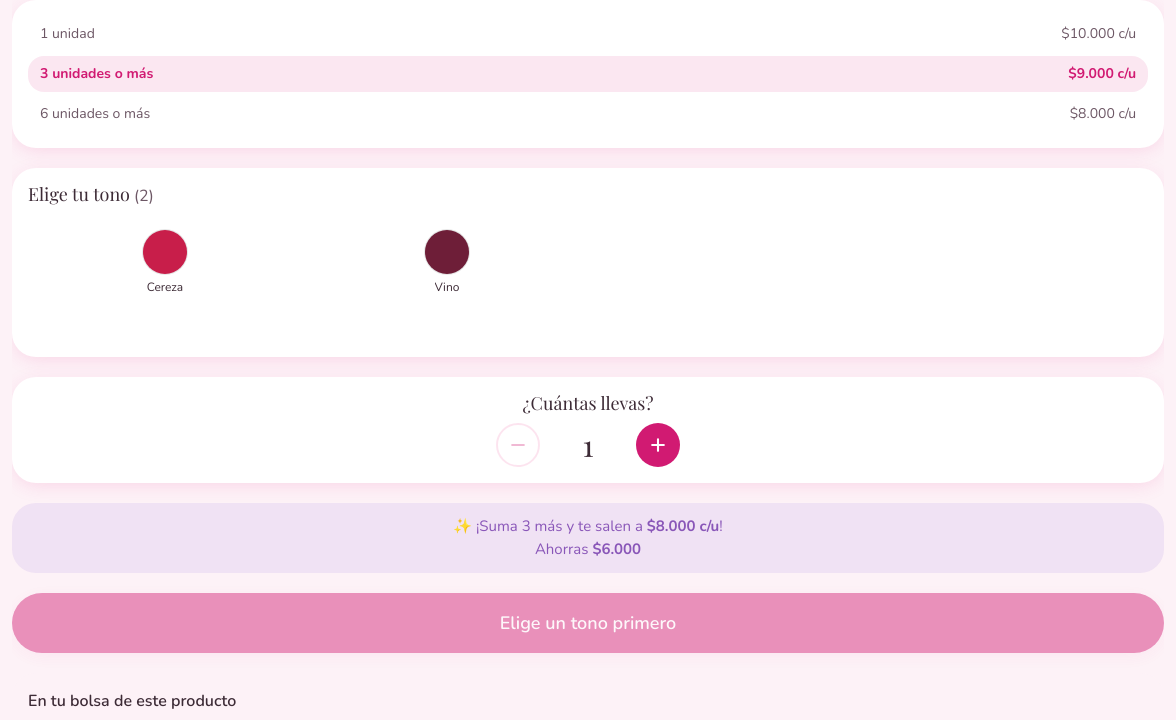
Scenario: PanelCompra con tonos › cuenta los tonos ya en la bolsa para elegir el escalón
Click the radio button labelled "Vino" at (447, 262), box [310,220,584,305]
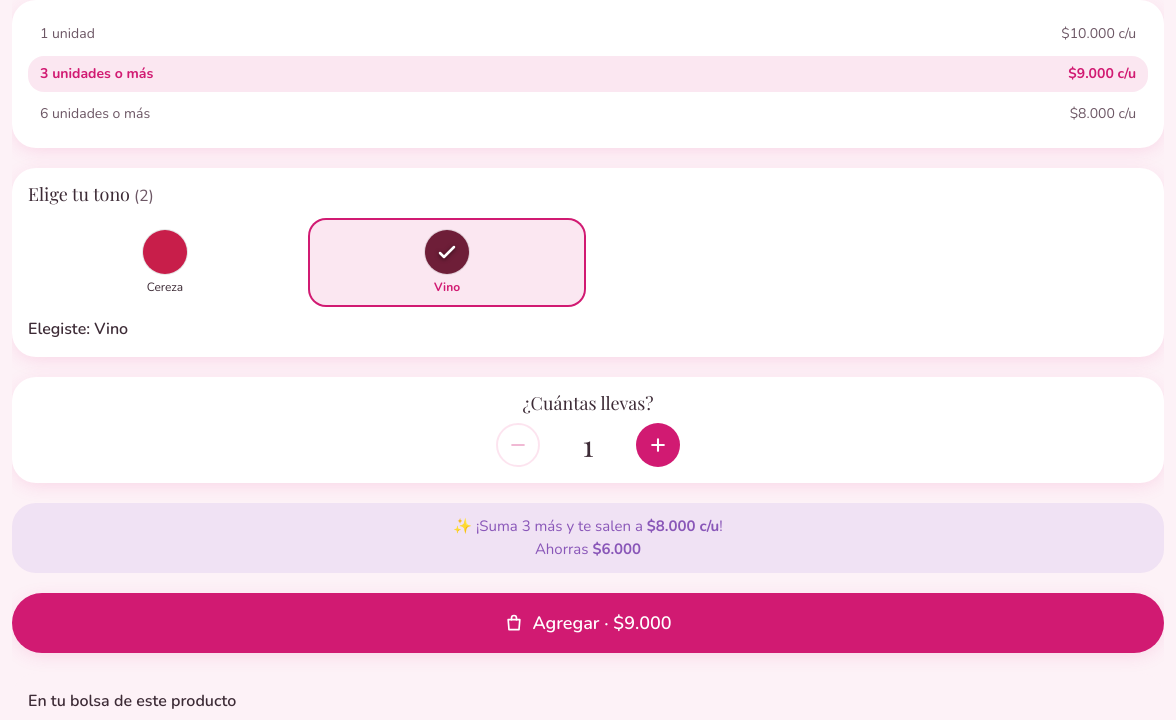
Check: the button "Agregar · $9.000" is shown, box [12,593,1164,653]
